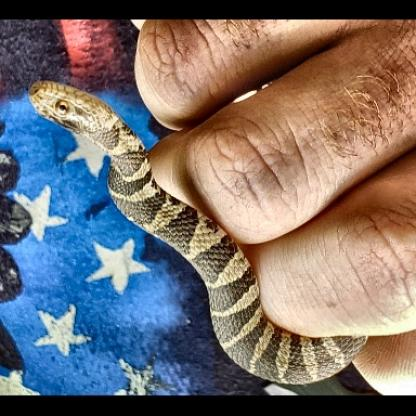Snake: (22, 76, 371, 388)
